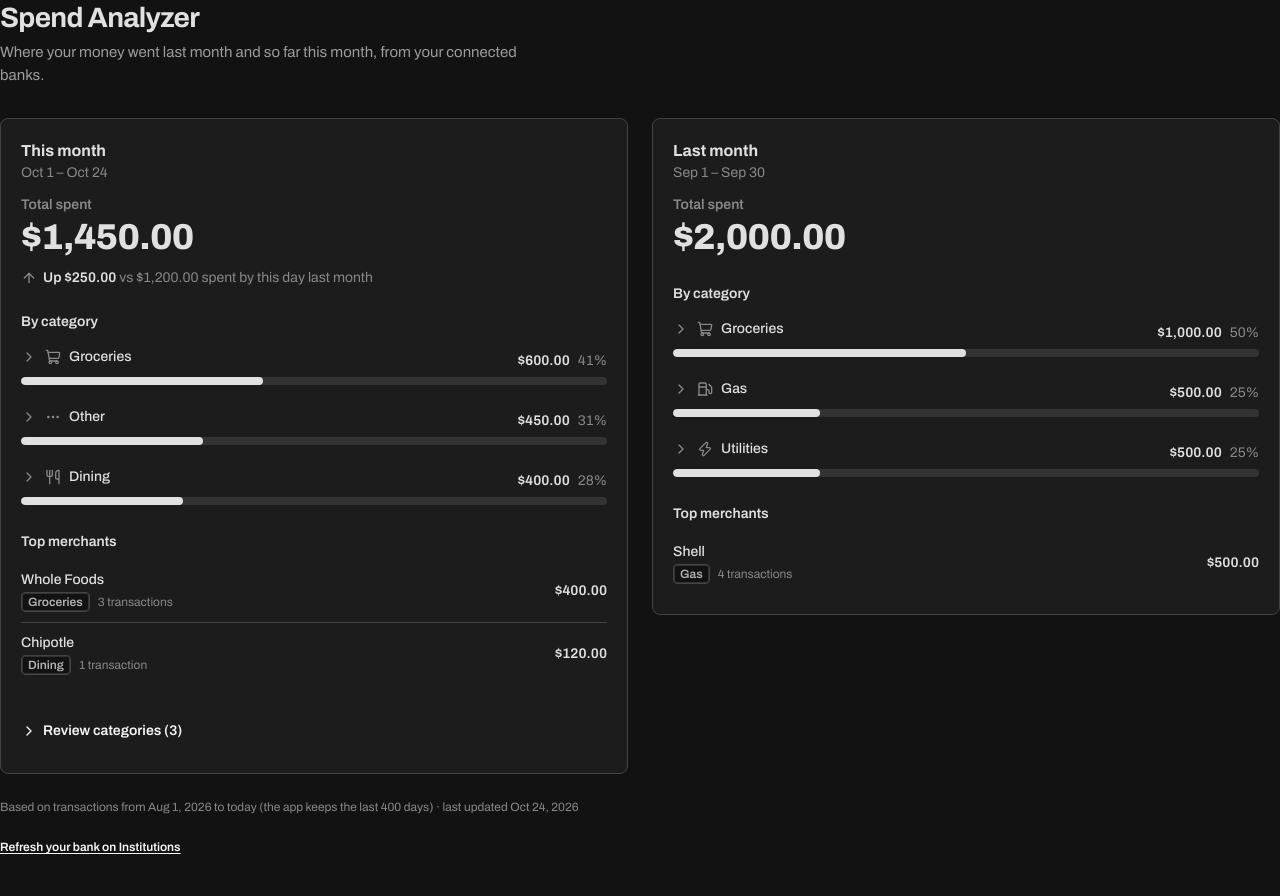
SpendingView › changing categories › saves the new category for the merchant by default and shows the refreshed analysis
This screenshot has width=1280, height=896.
Click the button with test id "spending-transactions-toggle-this-month" at (102, 731), box [21, 709, 182, 753]
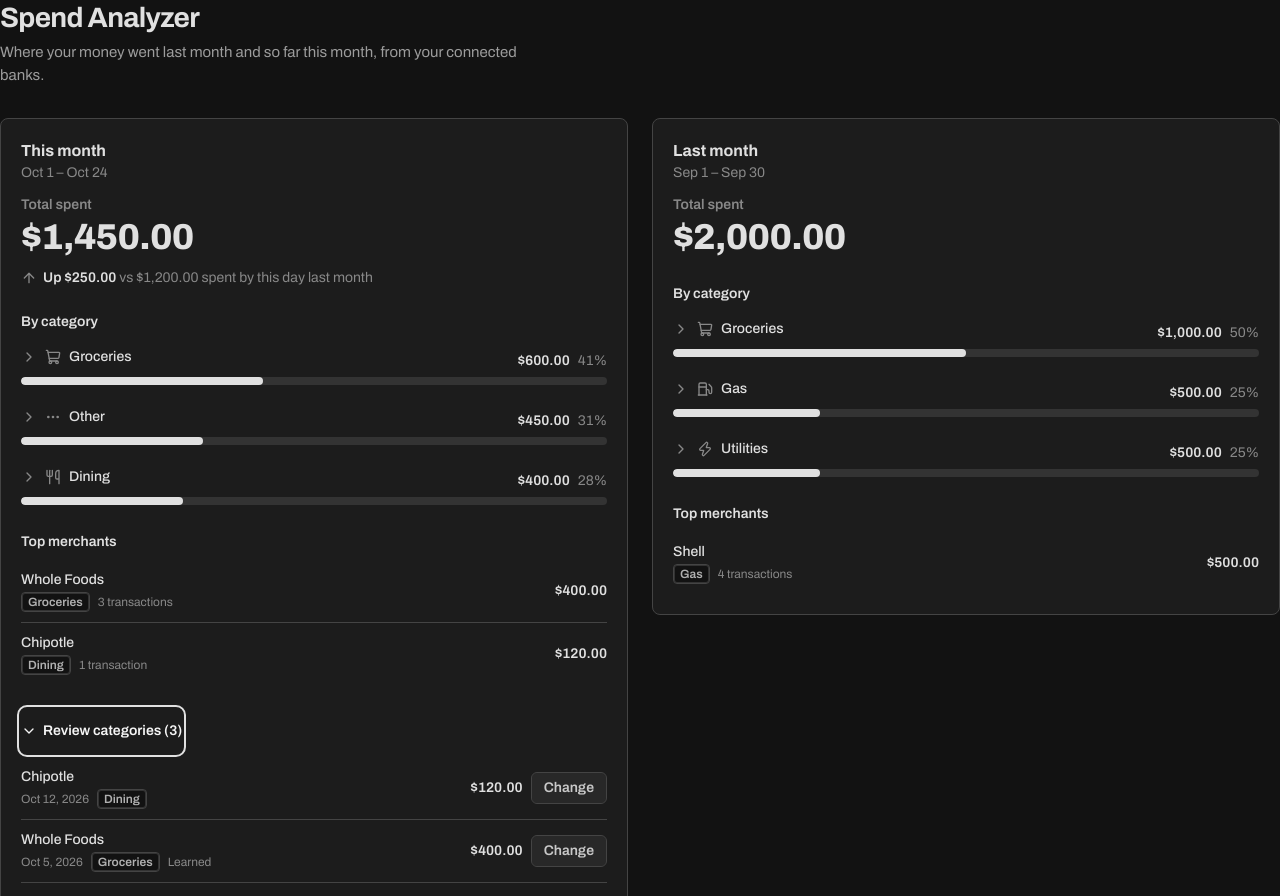
Click the button with test id "spending-transaction-edit" at (569, 788), box [531, 772, 607, 804]
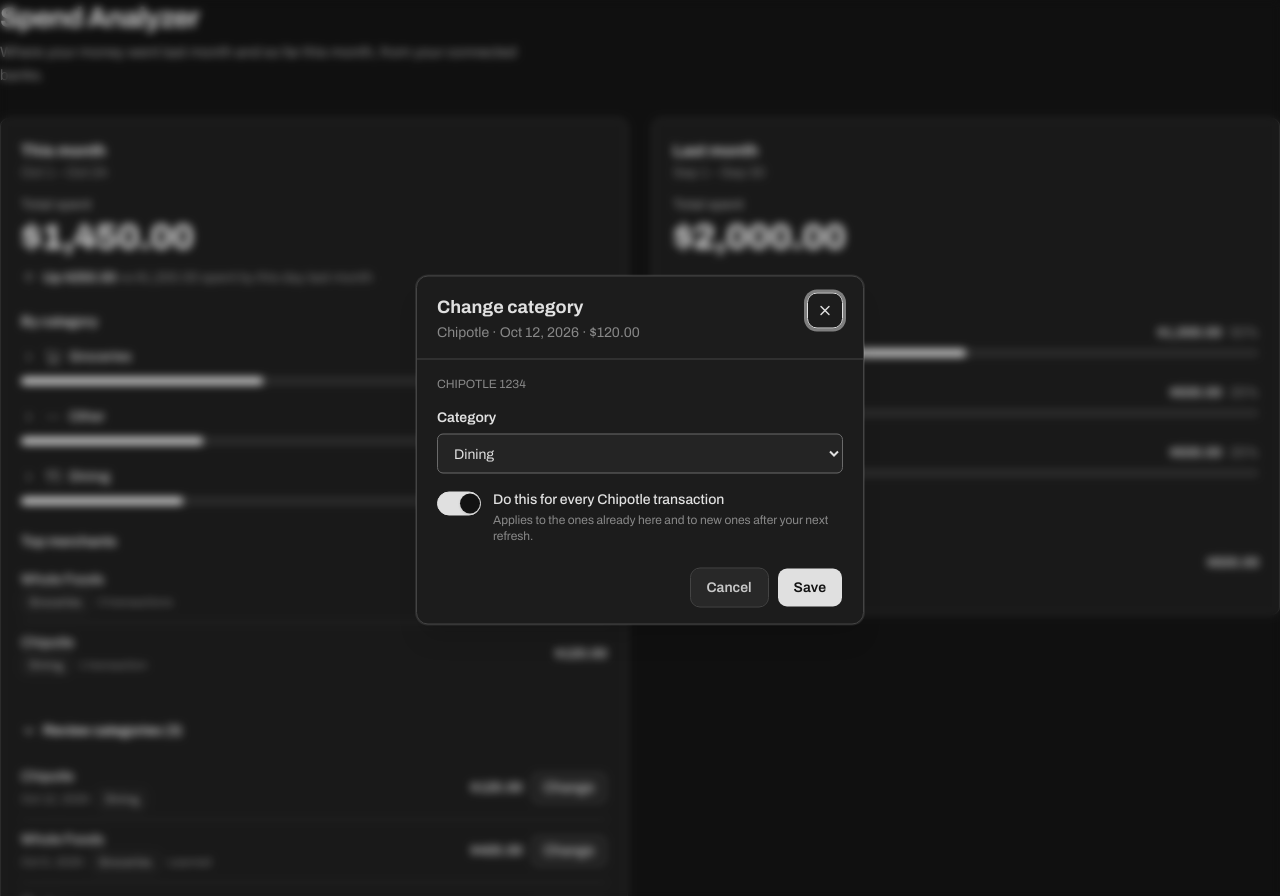
Expected: the dropdown with test id "category-select" shows "Dining"
Expected: the switch with test id "category-apply-merchant" is checked, [493, 490, 724, 510]
Select "Health" in the dropdown with test id "category-select" at (640, 454), box [437, 434, 843, 474]
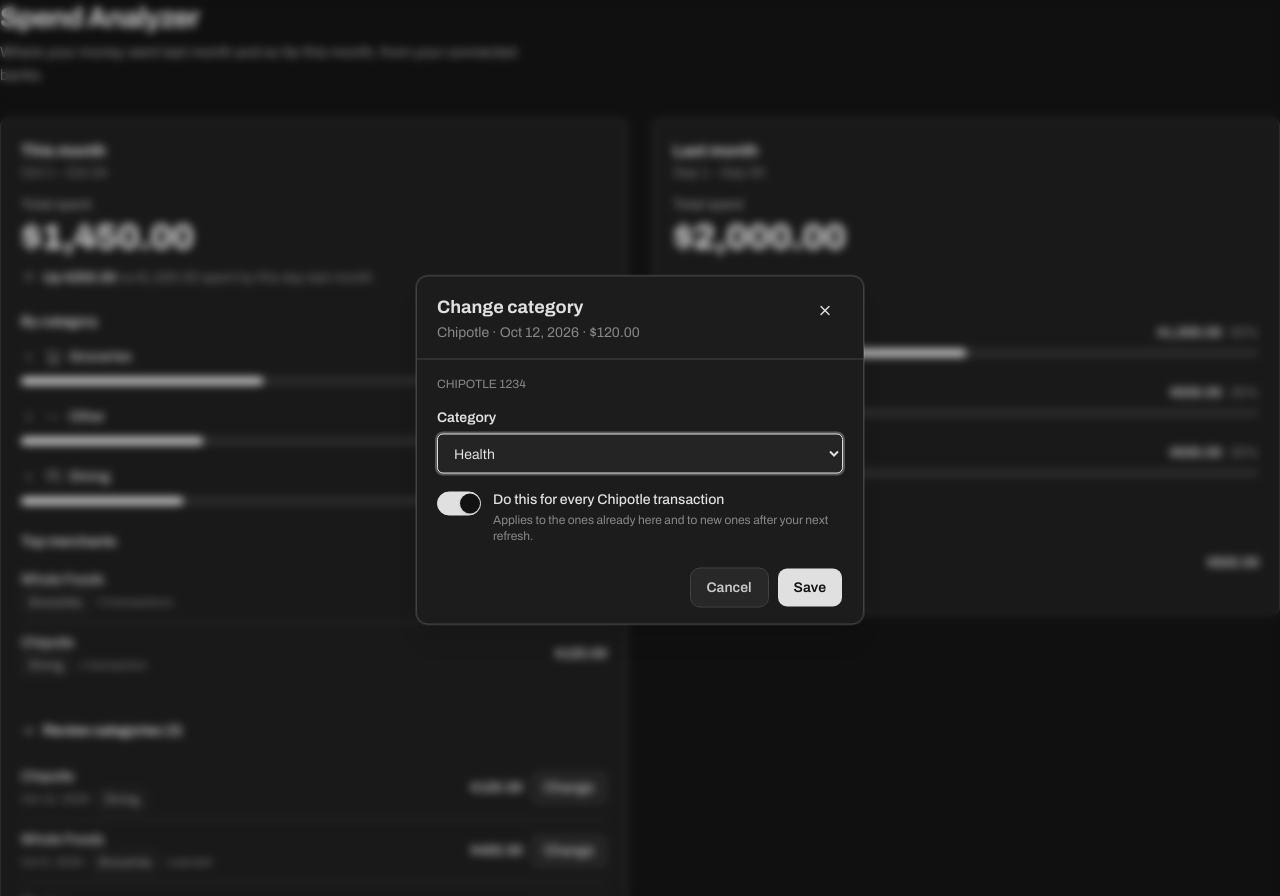
Click the button with test id "category-save" at (810, 588), box [777, 568, 843, 608]
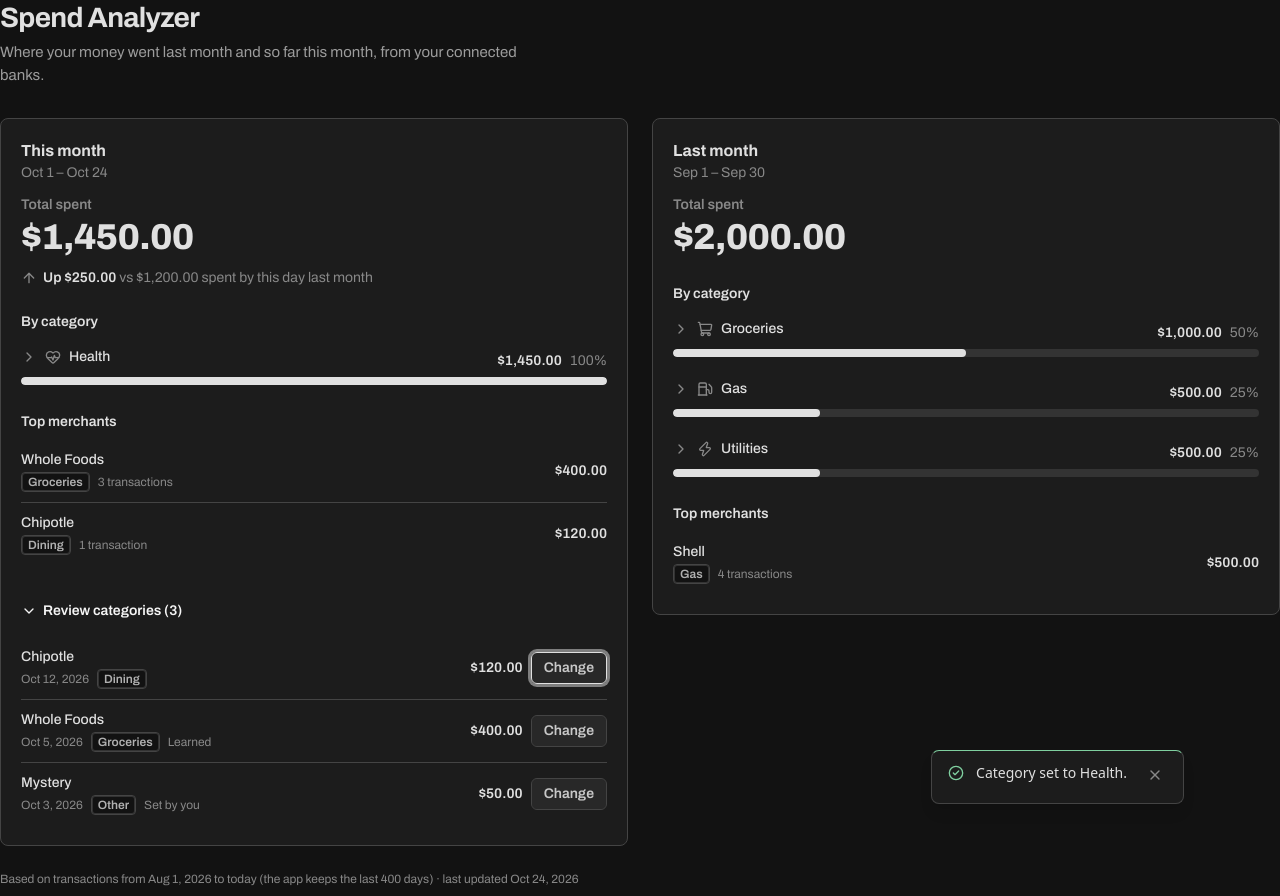
Expected: the dialog with test id "category-dialog" is gone
Expected: the list item with test id "spending-category-row" shows "Health", [21, 344, 607, 388]
